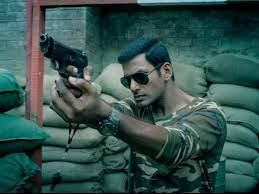gun: (36, 29, 105, 113)
